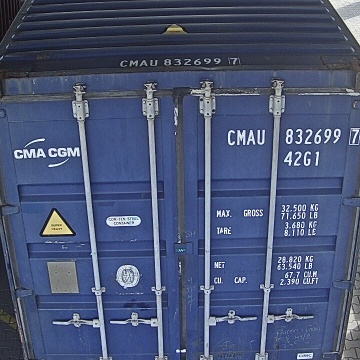serial_id: (228, 128, 360, 145)
